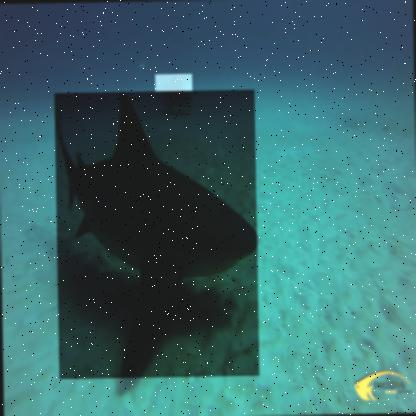bulldog-shark: (54, 90, 260, 380), (154, 73, 194, 112)
